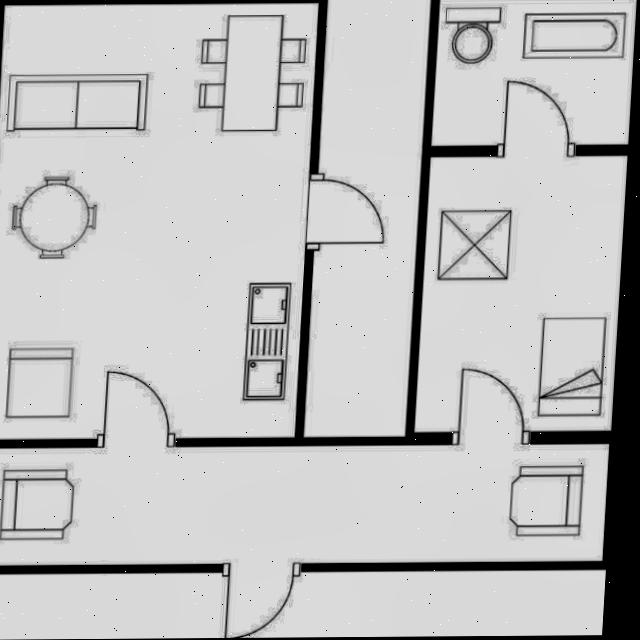room: (0, 2, 319, 438), (0, 443, 610, 564), (414, 143, 628, 443), (431, 0, 637, 145)
